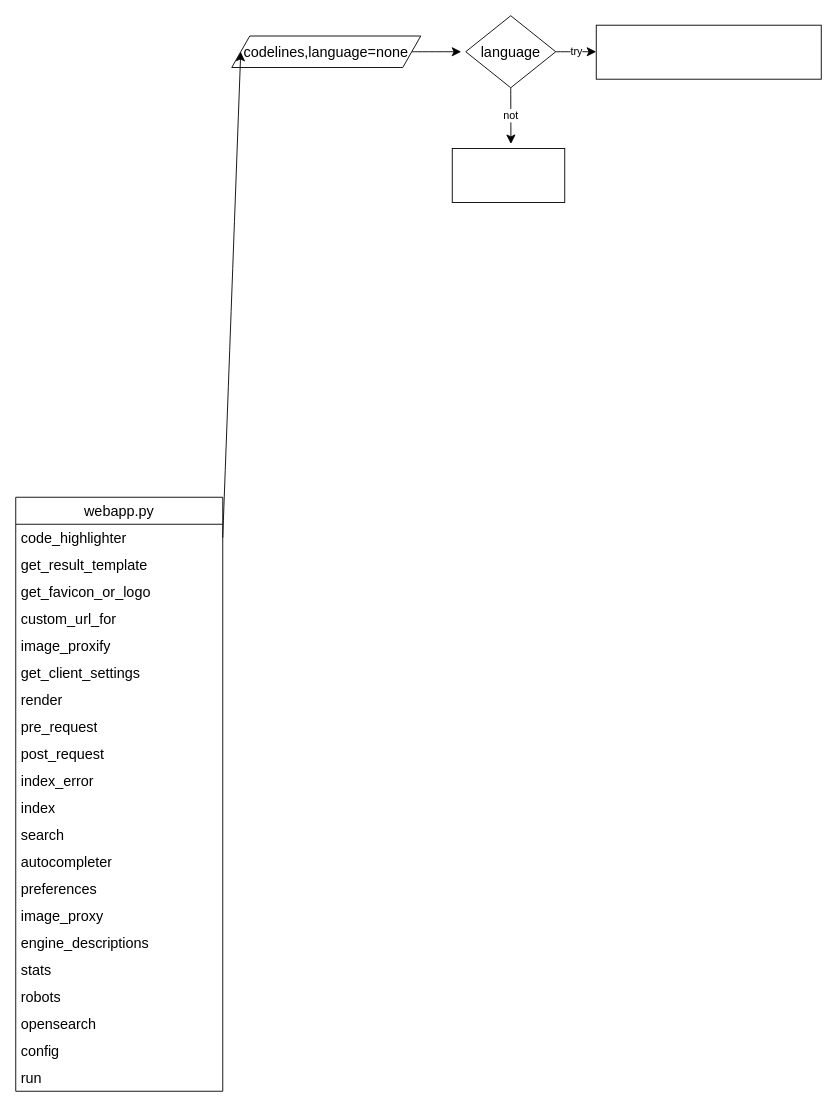
Some shapes in this 837 by 1107 pixel diagram are drawn without their labels. Each missing label, with the centre of its shape:
"language = 'text'" belongs at (x=508, y=175).
"lexer = get_lexer_by_name(language, stripall=True)" belongs at (x=708, y=51).
